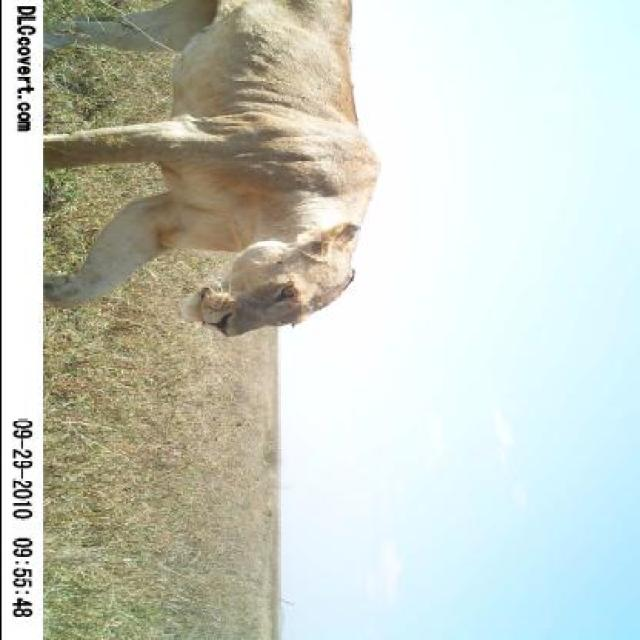Lion: (40, 3, 426, 348)
